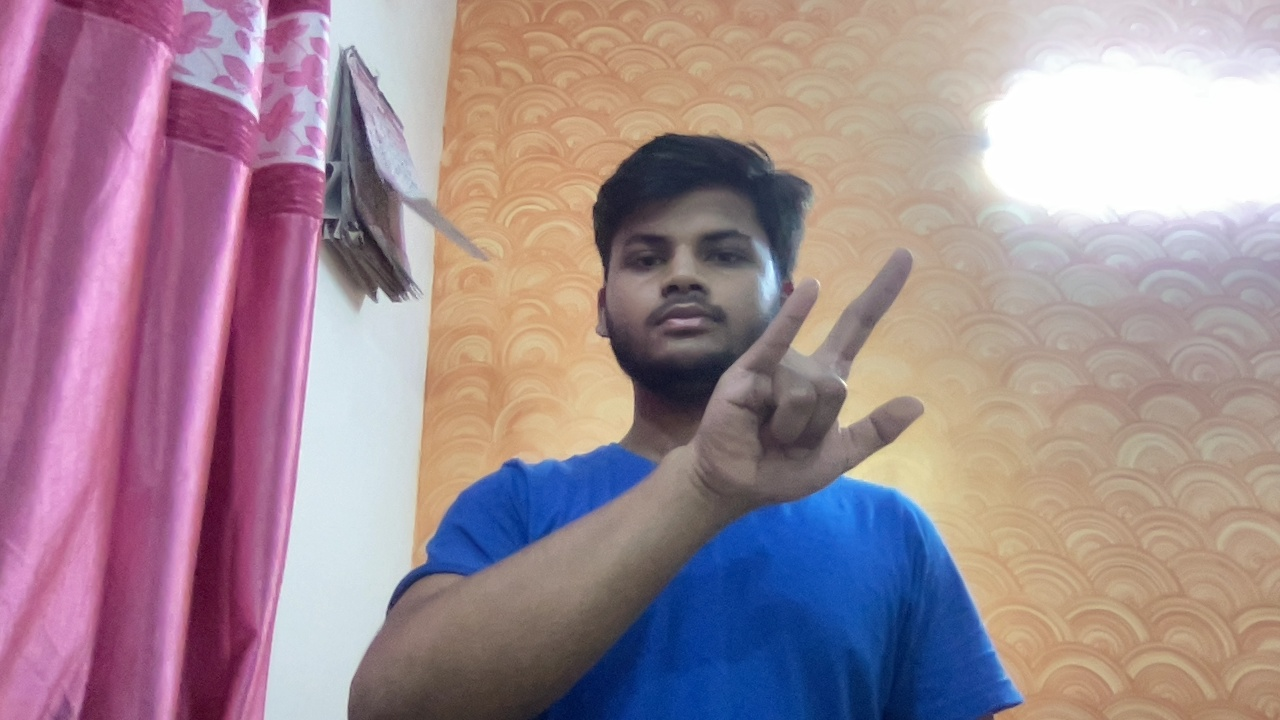iloveyou: (672, 238, 953, 511)
